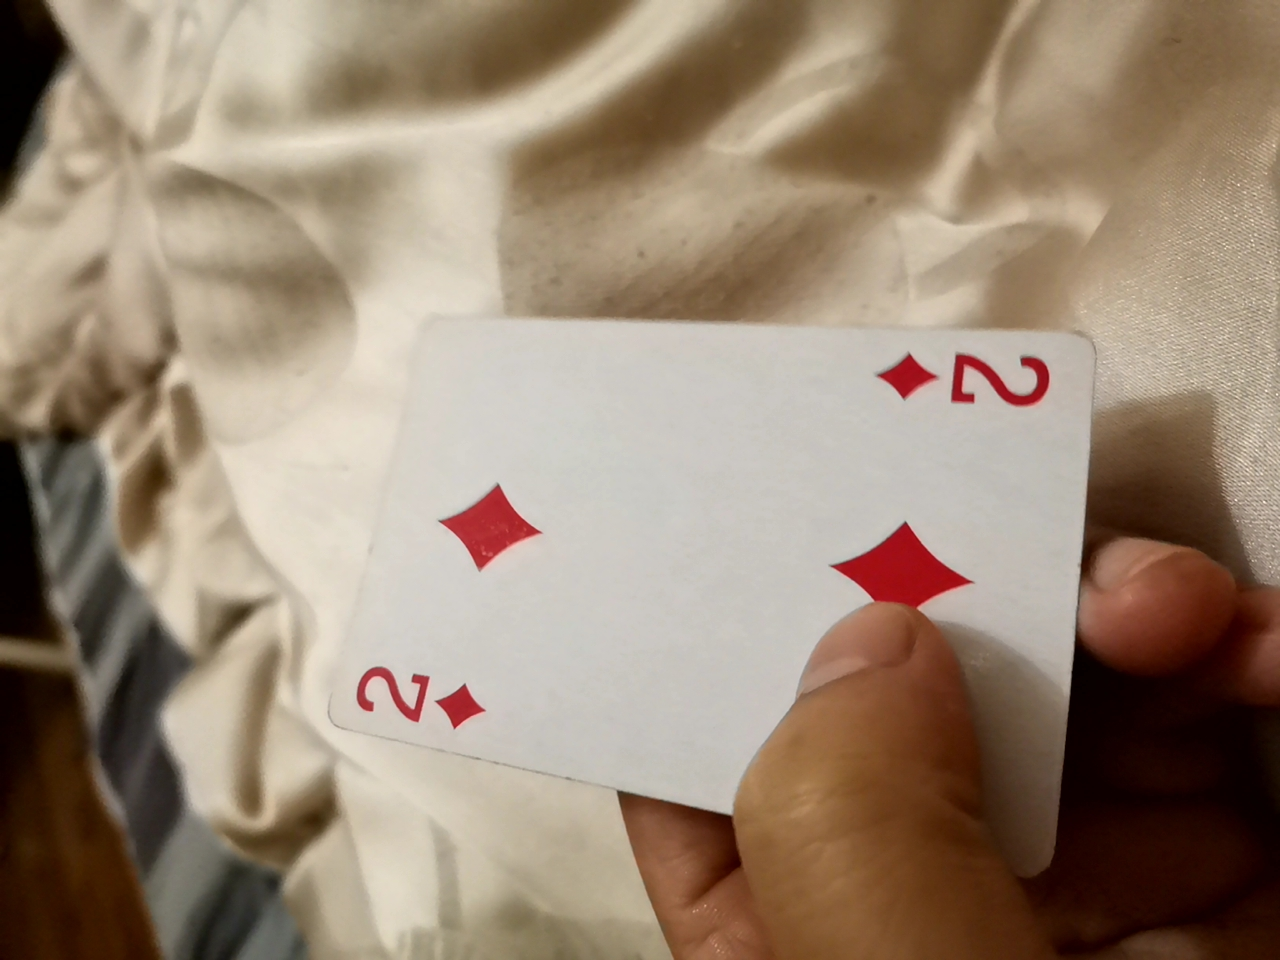fk 2: (286, 272, 1094, 815)
